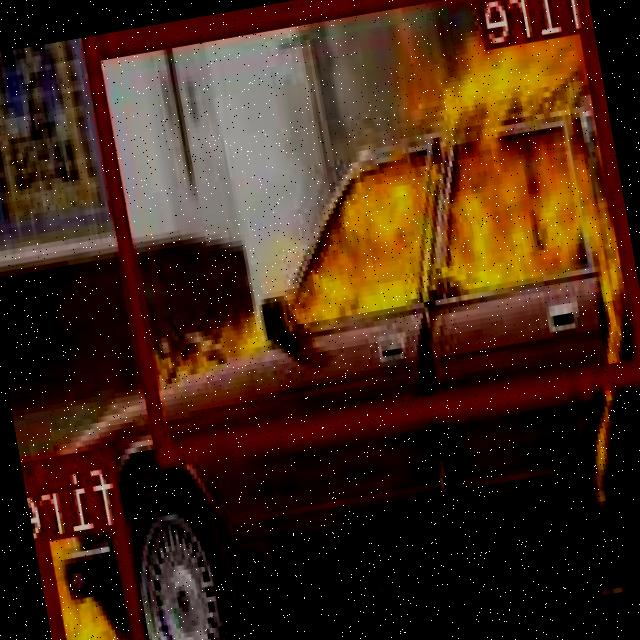fire: (87, 0, 640, 457), (25, 443, 151, 640)
